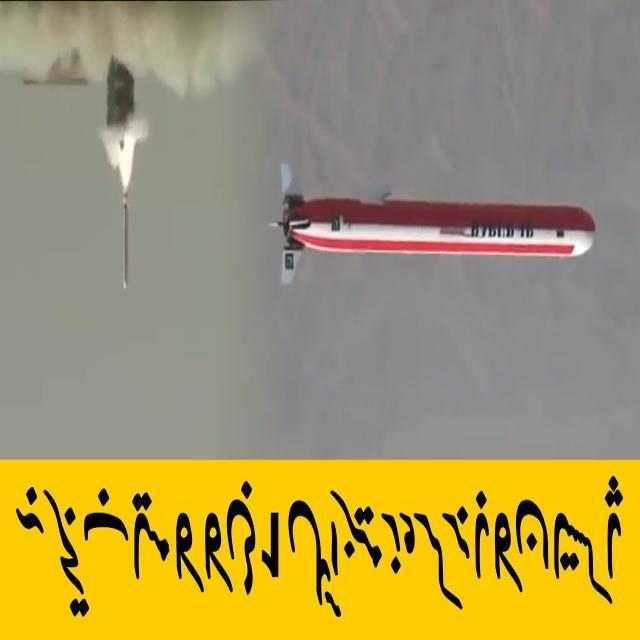missile: (277, 186, 598, 257), (121, 190, 131, 293)
